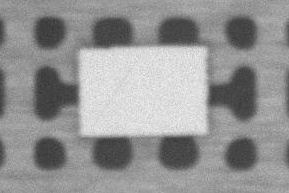DIE_CRACK: (144, 37, 208, 81)
